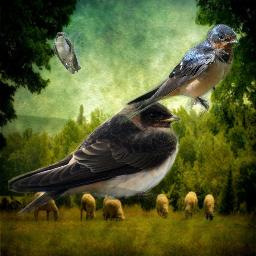Swallow: (8, 97, 182, 216), (119, 24, 240, 126), (53, 32, 81, 74)
